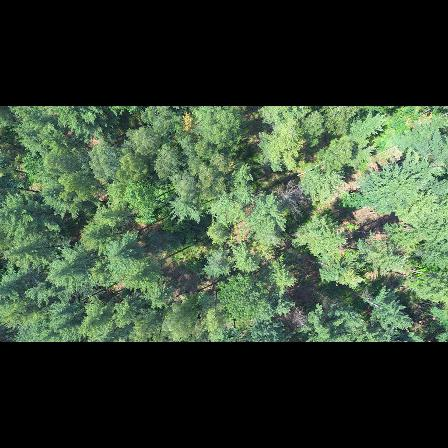Dead: (273, 178, 315, 221)
